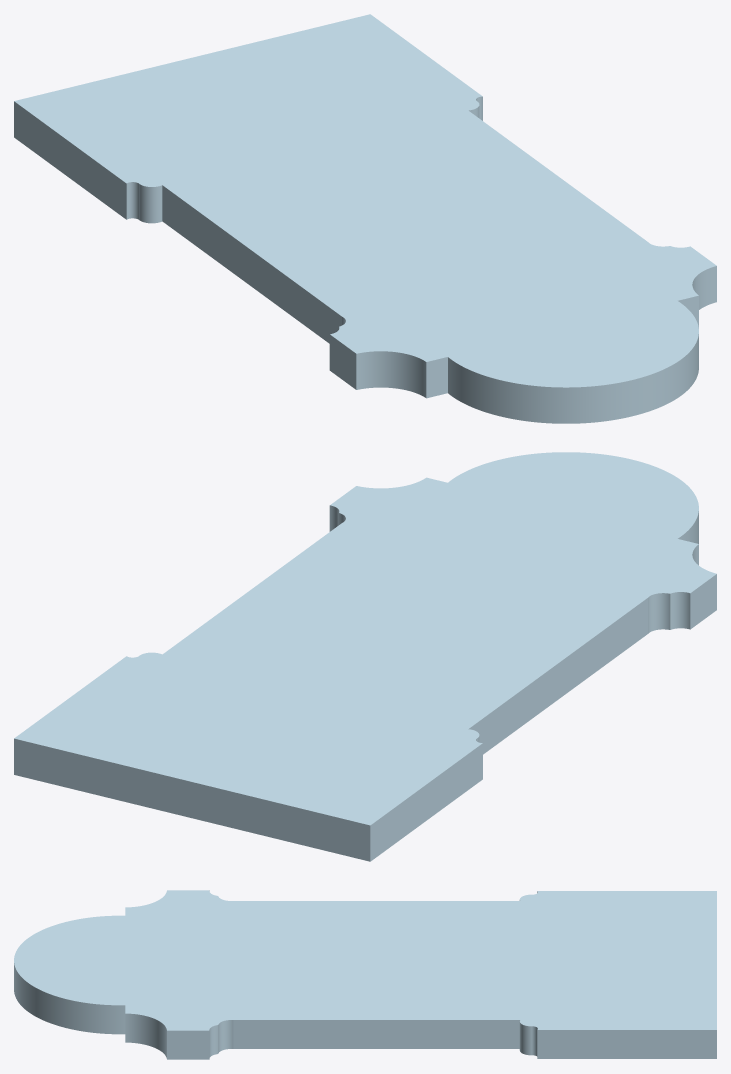
File: PA-24-F_processed.fbx
The picture shows the model from 3 angles, top to bottom: view 1: azimuth 30°, elevation 25°; view 2: azimuth 150°, elevation 25°; view 3: azimuth 270°, elevation 25°; orthographic projection. The views are drawn at different scales.
Visible parts, largest first — view 1: PA-24-F_LOD0; view 2: PA-24-F_LOD0; view 3: PA-24-F_LOD0.
Part boxes in pixels (x1=…): PA-24-F_LOD0: x1=14, y1=14, x2=716, y2=423; PA-24-F_LOD0: x1=14, y1=452, x2=716, y2=861; PA-24-F_LOD0: x1=14, y1=890, x2=716, y2=1059.
Size of what is drawn, in the model's own units: 697 by 67.06 by 1474.
